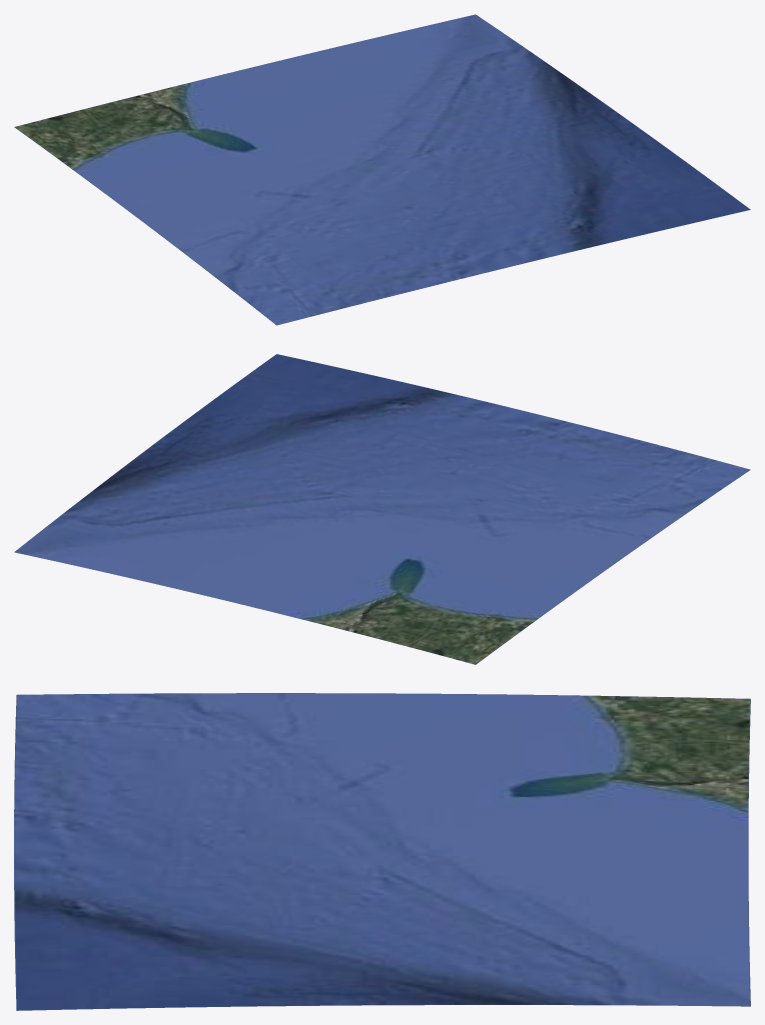
The picture shows the model from 3 angles, top to bottom: view 1: azimuth 30°, elevation 25°; view 2: azimuth 150°, elevation 25°; view 3: azimuth 270°, elevation 25°; orthographic projection. The views are drawn at different scales.
Bounding box in the file's own units: 265872 × 2708 × 262032.
Materials: 1 (1 with a texture image).
